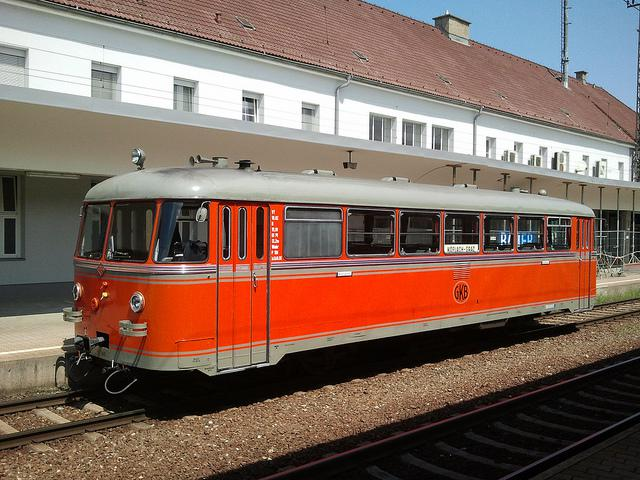Train: (62, 147, 602, 404)
